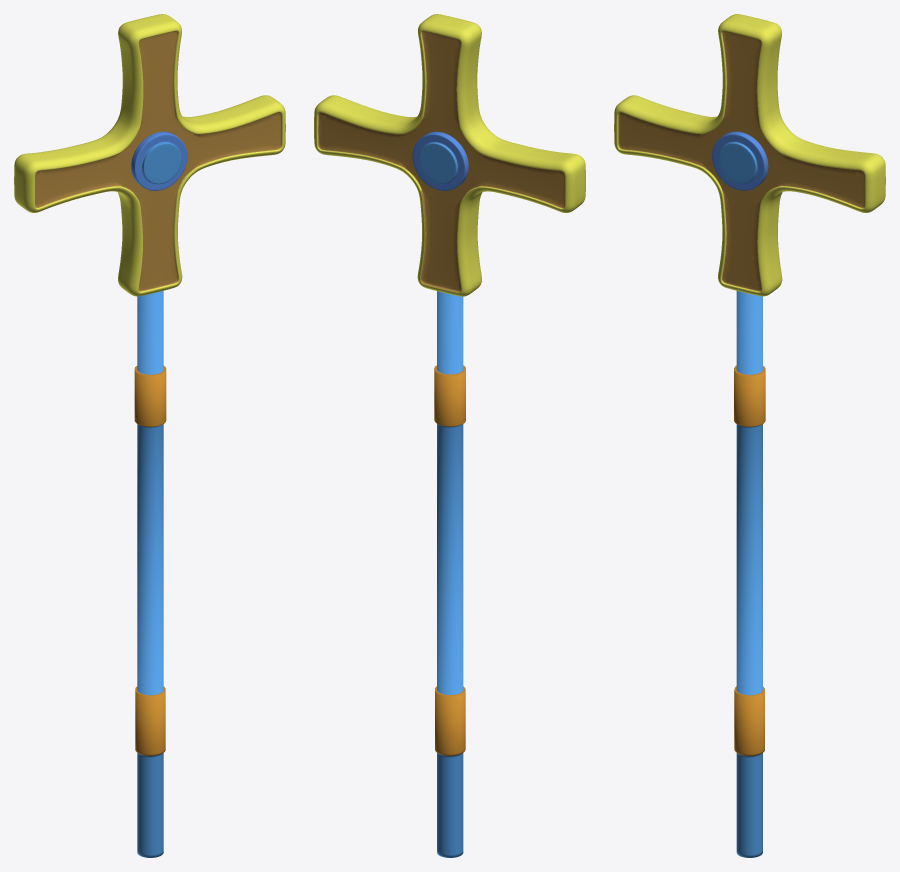
The model's file is Asa_3.fbx.
3 views of the same model, side by side, from view 1: azimuth 30°, elevation 25°; view 2: azimuth 150°, elevation 25°; view 3: azimuth 330°, elevation 25° (orthographic).
Parts seen in each view (by area): view 1: Cylinder; view 2: Cylinder; view 3: Cylinder.
Part boxes in pixels (bbox=[...]): Cylinder: bbox=[14, 14, 285, 857]; Cylinder: bbox=[314, 14, 585, 857]; Cylinder: bbox=[614, 14, 885, 857].
Size of the model in its own units: 73.59 by 224 by 12.61.
